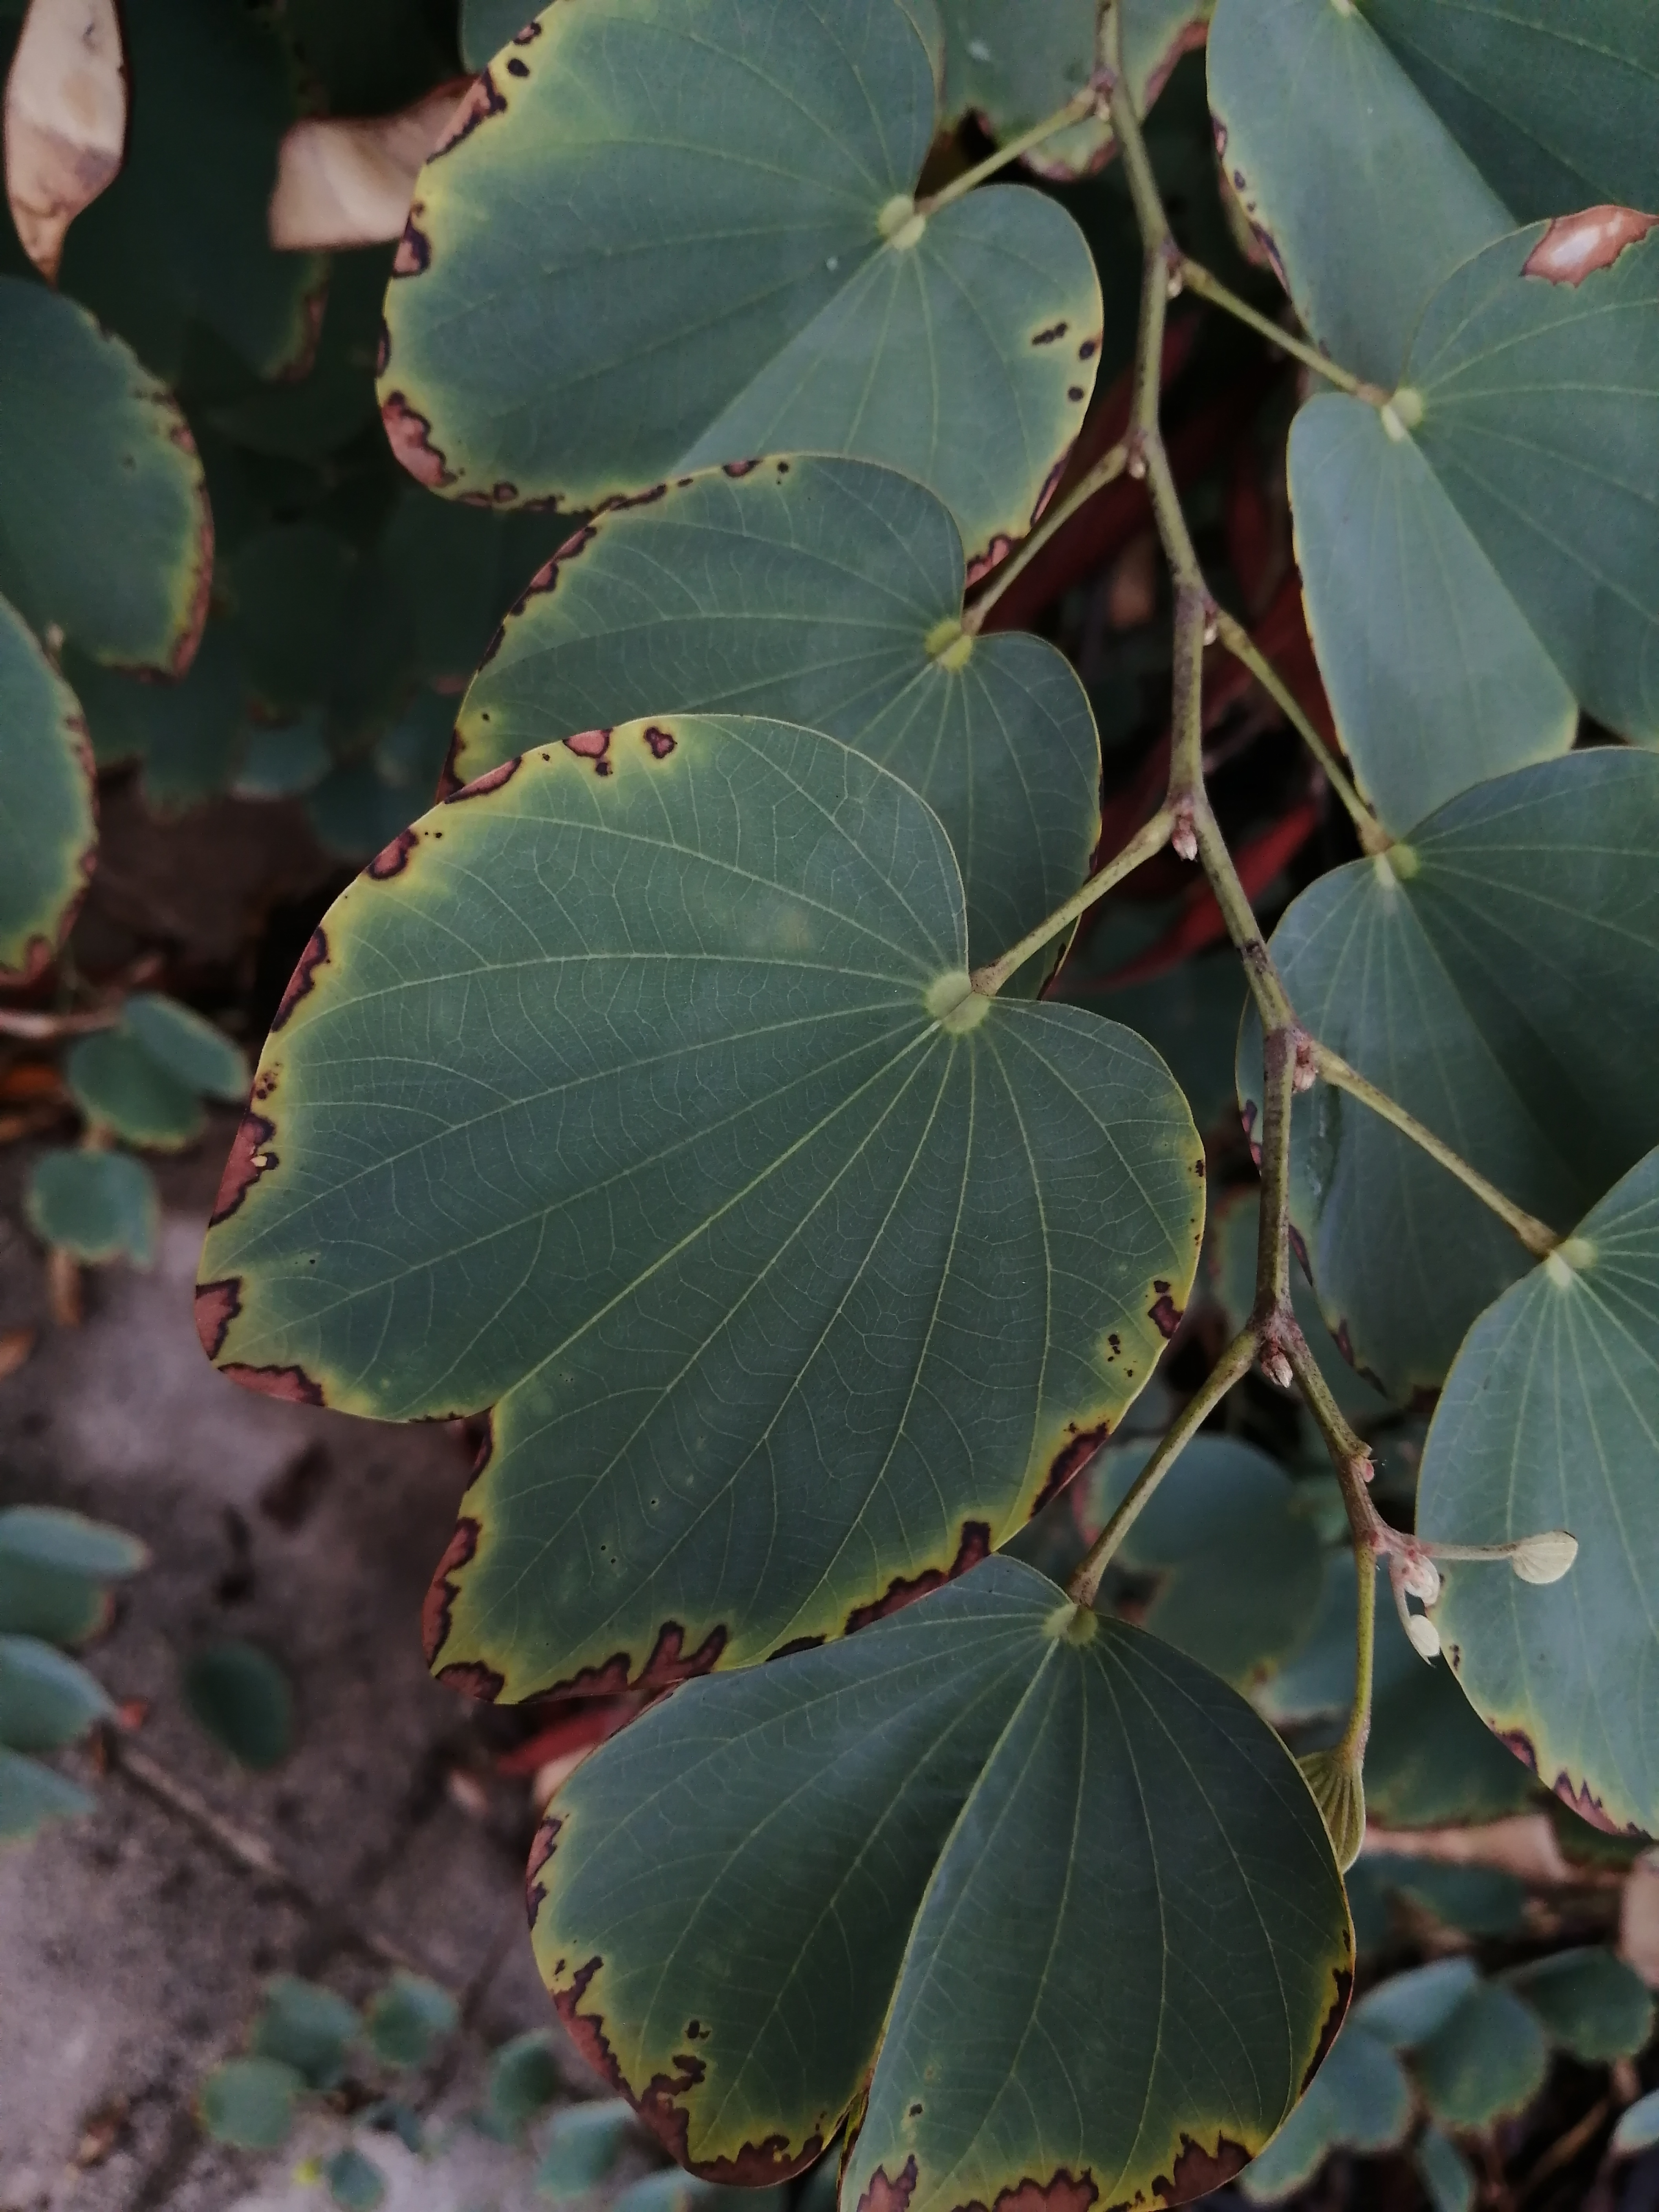nothealthy: (188, 725, 1211, 1731), (498, 1507, 1392, 2203), (366, 10, 1098, 634)
